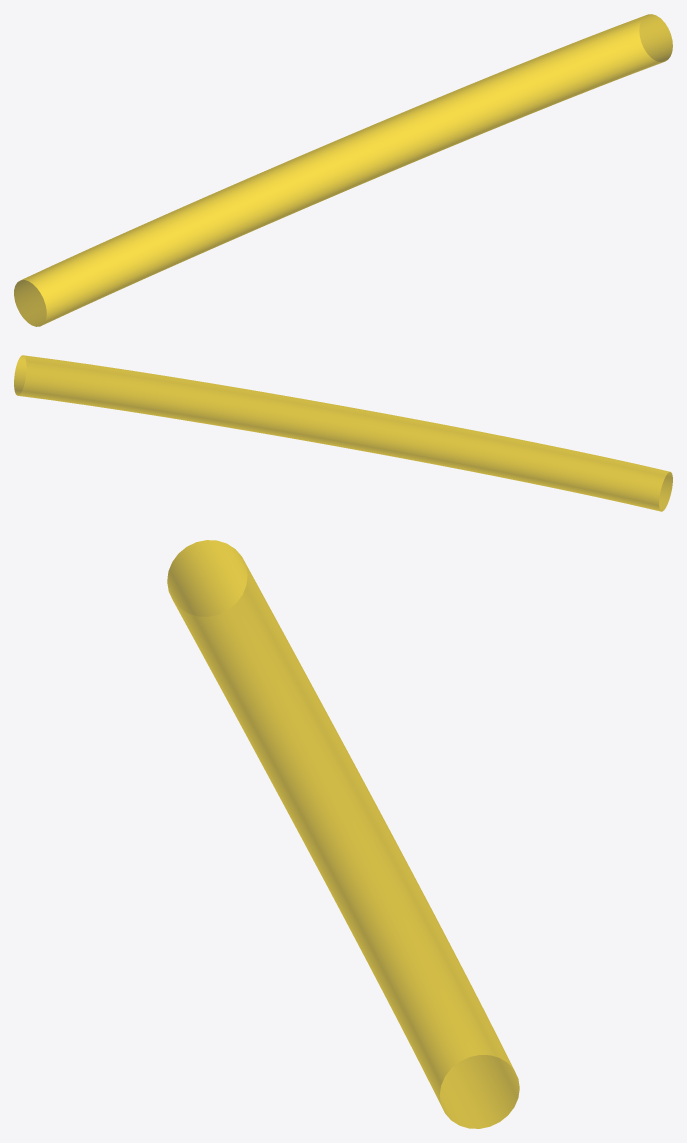
File: Event_419990632_track_82.fbx
The picture shows the model from 3 angles, top to bottom: view 1: azimuth 30°, elevation 25°; view 2: azimuth 150°, elevation 25°; view 3: azimuth 270°, elevation 25°; orthographic projection. The views are drawn at different scales.
Visible parts, largest first — view 1: Model; view 2: Model; view 3: Model.
Part boxes in pixels (bbox=[...]): Model: bbox=[14, 14, 672, 326]; Model: bbox=[14, 355, 672, 511]; Model: bbox=[167, 540, 519, 1128].
Bounding box in the file's own units: 0.6595 × 0.0672 × 0.1722.
